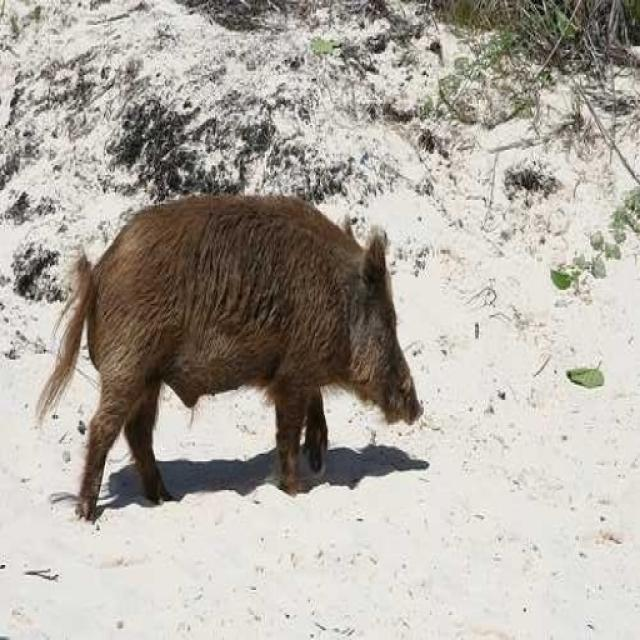pig: (27, 184, 469, 518)
